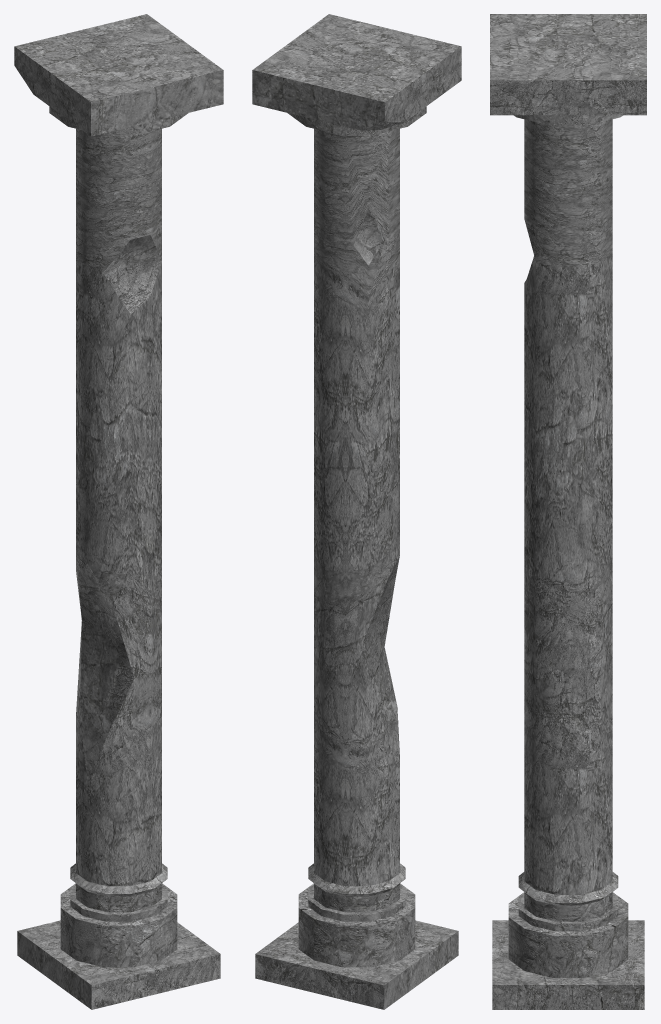
File: materials_3_pillar_1.fbx
The picture shows the model from 3 angles, left to right: view 1: azimuth 30°, elevation 25°; view 2: azimuth 150°, elevation 25°; view 3: azimuth 270°, elevation 25°; orthographic projection. The views are drawn at different scales.
Parts seen in each view (by area): view 1: materials_3_pillar_1; view 2: materials_3_pillar_1; view 3: materials_3_pillar_1.
Part boxes in pixels (left/top/right/bottom): materials_3_pillar_1: left=14, top=14, right=223, bottom=1009; materials_3_pillar_1: left=252, top=14, right=461, bottom=1009; materials_3_pillar_1: left=490, top=14, right=646, bottom=1009.
Bounding box in the file's own units: 49.93 × 327 × 49.93.
